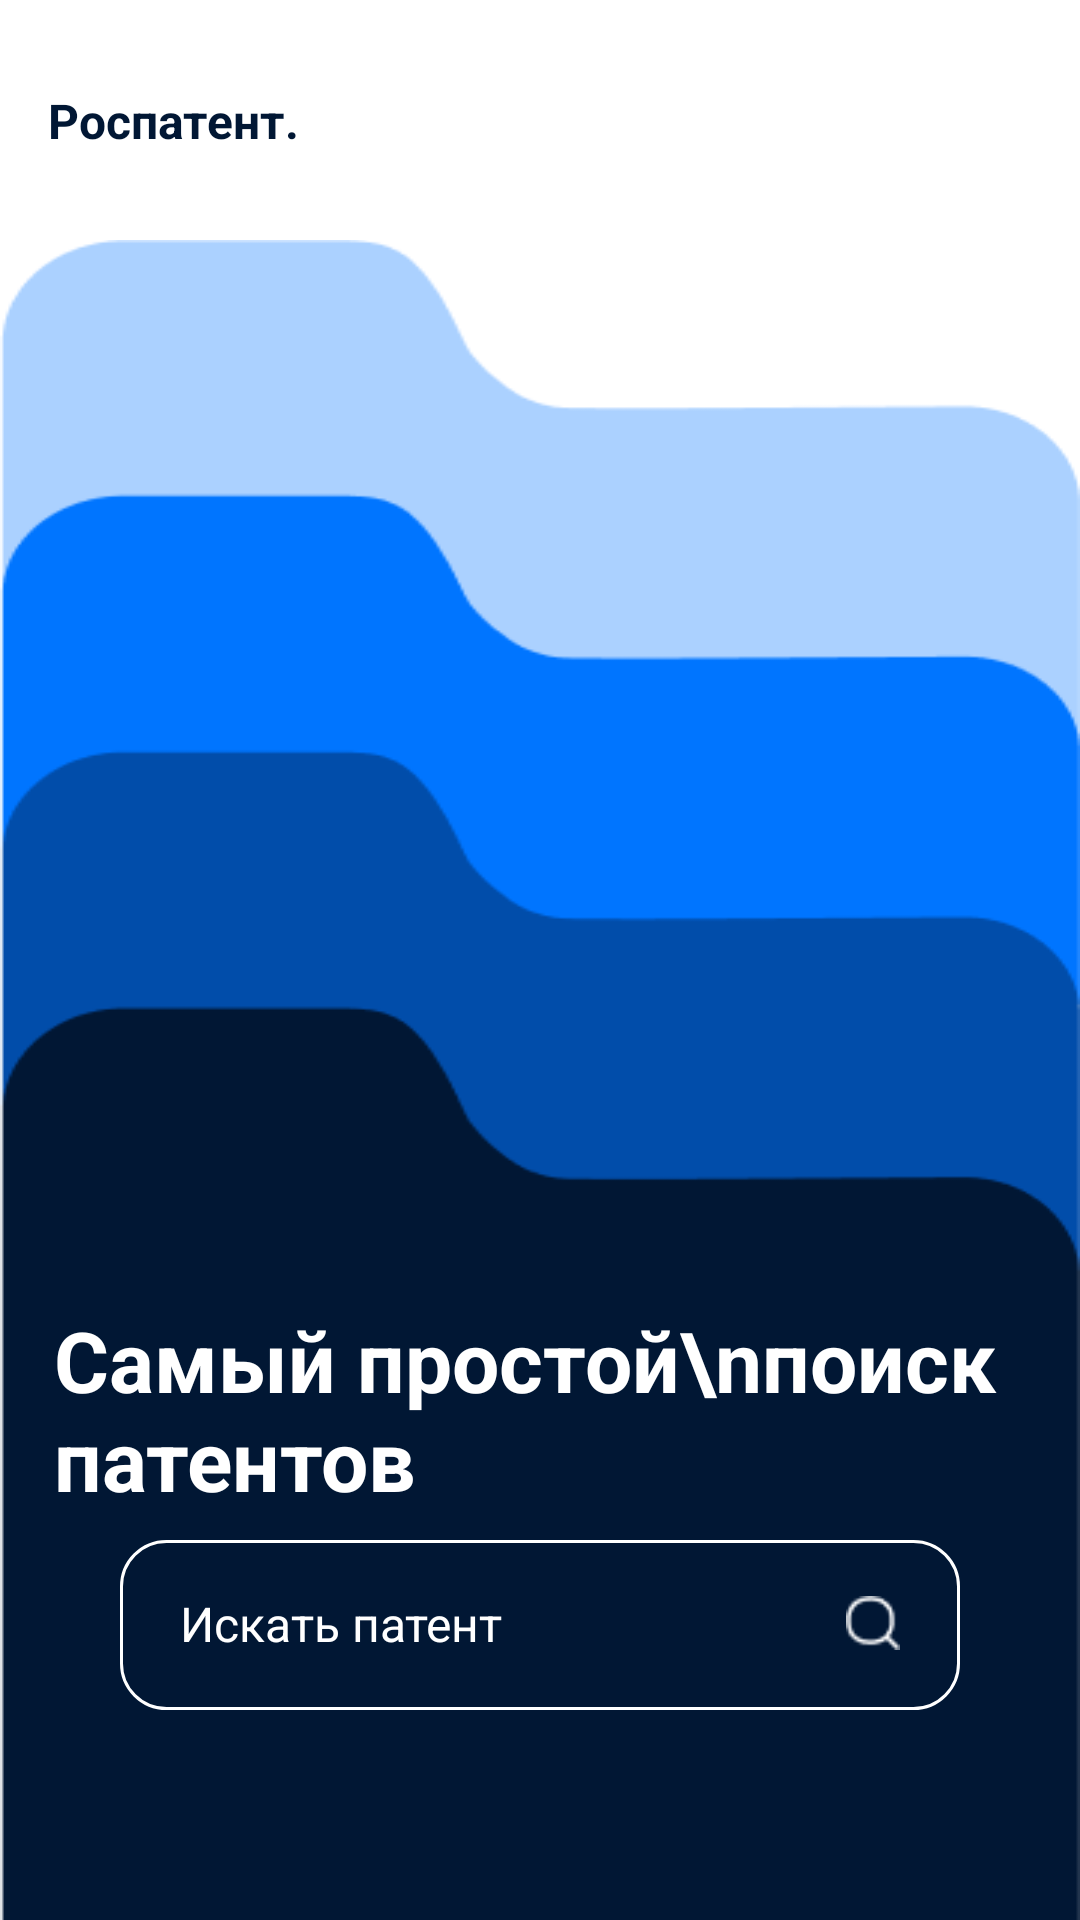

Named icons in this screenshot (1080 x 1920) and their bounding boxes, {"left": x1, "top": y1, "right": x2, "bottom": y2}:
search: {"left": 846, "top": 1596, "right": 900, "bottom": 1650}
